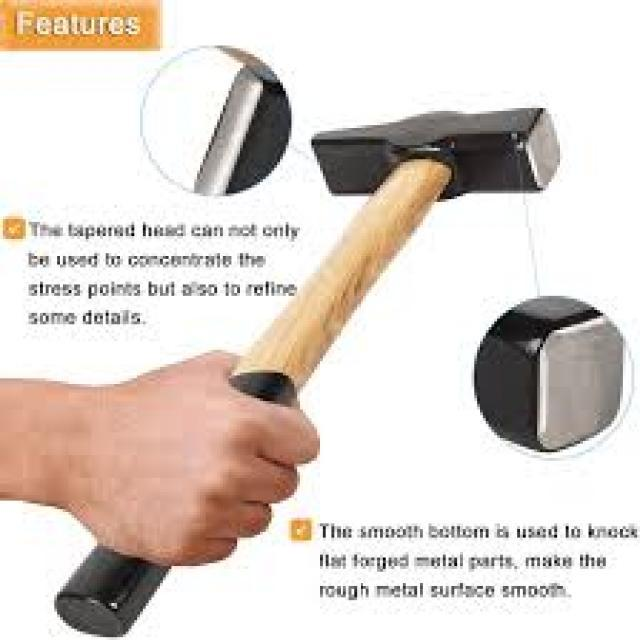hammer: (44, 99, 567, 640)
